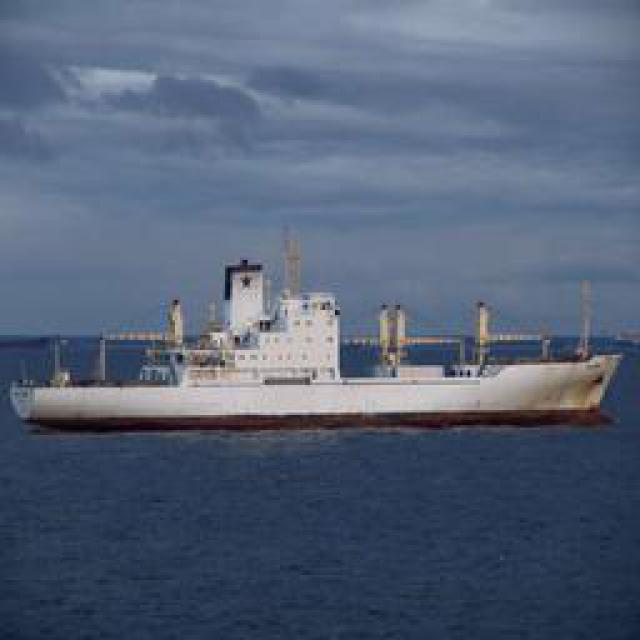Ship: (7, 260, 620, 435)
